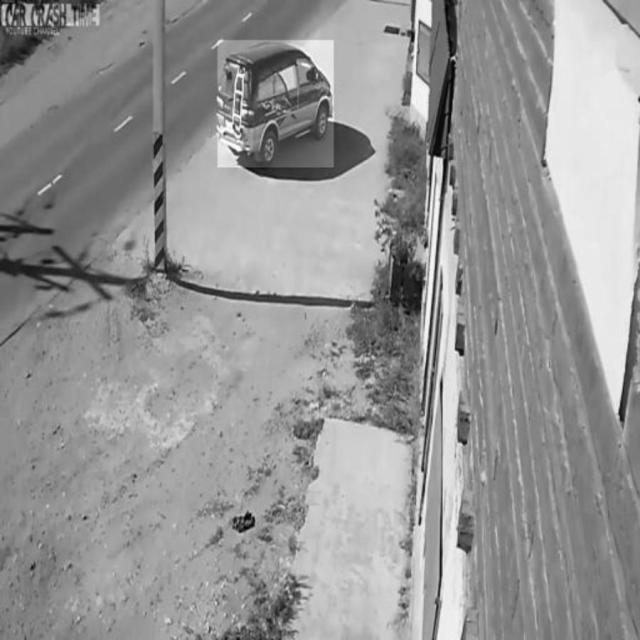vehicle: (218, 40, 334, 168)
